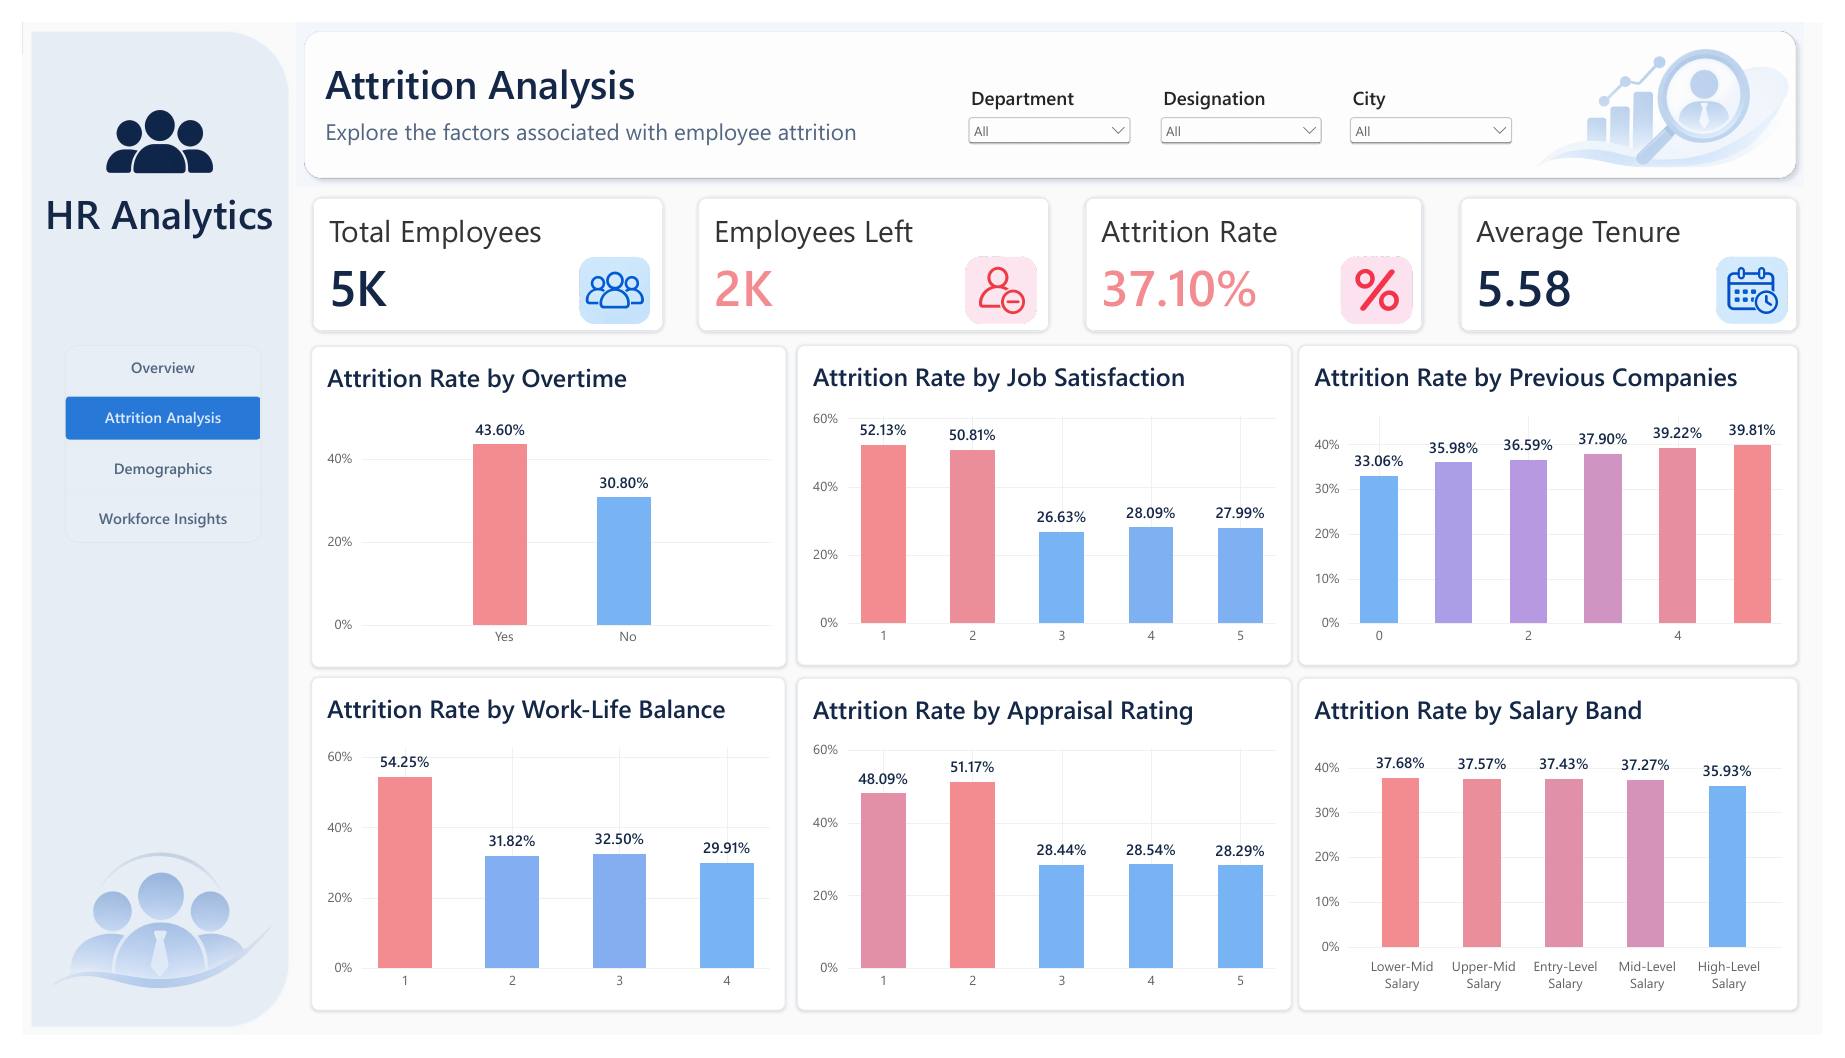

Layout of this report page (visuals, bound fields, positions):
{"tool":"powerbi","page":{"name":"Attrition Analysis","canvas":[1920,1080],"ordinal":1},"visuals":[{"type":"shape","box":[292,0,1608,175],"z":0},{"type":"shape","box":[0,0,292.5,1080],"z":1000},{"type":"cardVisual","title":"Hello","fields":{"Data":["HR_Attrition_Indian_Dataset.Total Employees"]},"box":[308.6,185.7,375.7,144.3],"z":2000},{"type":"cardVisual","fields":{"Data":["HR_Attrition_Indian_Dataset.Employees Left"]},"box":[720,185.7,375.7,144.3],"z":3000},{"type":"cardVisual","fields":{"Data":["HR_Attrition_Indian_Dataset.Attrition Rate"]},"box":[1132.9,185.7,361.4,144.3],"z":4000},{"type":"cardVisual","fields":{"Data":["HR_Attrition_Indian_Dataset.Average Tenure"]},"box":[1532.9,185.7,361.4,144.3],"z":5000},{"type":"textbox","box":[322.5,36.2,628.8,63.8],"z":6000},{"type":"textbox","box":[322.9,100,620,35.7],"z":7000},{"type":"clusteredColumnChart","title":"Attrition Rate by Overtime","fields":{"Category":["HR_Attrition_Indian_Dataset.DoesOvertime"],"Y":["HR_Attrition_Indian_Dataset.Attrition Rate"]},"box":[307.5,345,507.5,342.5],"z":8000},{"type":"clusteredColumnChart","title":"Attrition Rate by Job Satisfaction","fields":{"Category":["HR_Attrition_Indian_Dataset.JobSatisfaction"],"Y":["HR_Attrition_Indian_Dataset.Attrition Rate"]},"box":[825.7,344.3,528.6,341.4],"z":9000},{"type":"clusteredColumnChart","title":"Attrition Rate by Work-Life Balance","fields":{"Category":["HR_Attrition_Indian_Dataset.WorkLifeBalance"],"Y":["HR_Attrition_Indian_Dataset.Attrition Rate"]},"box":[308,698,506,356],"z":10000},{"type":"clusteredColumnChart","title":"Attrition Rate by Appraisal Rating","fields":{"Category":["HR_Attrition_Indian_Dataset.AppraisalRating"],"Y":["HR_Attrition_Indian_Dataset.Attrition Rate"]},"box":[825.7,698.6,528.6,355.7],"z":11000},{"type":"clusteredColumnChart","title":"Attrition Rate by Previous Companies","fields":{"Category":["HR_Attrition_Indian_Dataset.PreviousCompanies"],"Y":["HR_Attrition_Indian_Dataset.Attrition Rate"]},"box":[1361.4,344.3,532.9,341.4],"z":12000},{"type":"clusteredColumnChart","title":"Attrition Rate by Salary Band","fields":{"Category":["HR_Attrition_Indian_Dataset.Salary_Group"],"Y":["HR_Attrition_Indian_Dataset.Attrition Rate"]},"box":[1361.4,698.6,532.9,355.7],"z":13000},{"type":"pageNavigator","box":[45,343.8,210,211.2],"z":14000},{"type":"image","box":[960,245.4,166.9,80],"z":15000},{"type":"image","box":[1360.8,245.4,166.9,80],"z":16000},{"type":"image","box":[1782.3,245.4,124.6,80],"z":17000},{"type":"image","box":[546.4,245.5,172,80],"z":18000},{"type":"textbox","box":[25,175,245,225],"z":19000},{"type":"image","box":[0,825,300,255],"z":20000},{"type":"slicer","fields":{"Values":["HR_Attrition_Indian_Dataset.Department"]},"box":[1004.3,67.1,182.9,90],"z":21000},{"type":"slicer","fields":{"Values":["HR_Attrition_Indian_Dataset.Designation"]},"box":[1208.6,67.1,182.9,90],"z":22000},{"type":"slicer","fields":{"Values":["HR_Attrition_Indian_Dataset.City"]},"box":[1411.4,67.1,182.9,90],"z":23000},{"type":"image","box":[1595,0,300,175],"z":24000},{"type":"image","box":[55,40,181.7,156.7],"z":25000}]}

Visuals, with their boxes in screenshot pixels (x1, y1, x2, y2), scaled from the page's 1920x1080 canvas onto the 1845x1058 screenshot:
shape: 281, 0, 1826, 171
shape: 0, 0, 281, 1057
"Hello" cardVisual: 297, 182, 658, 323
cardVisual - HR_Attrition_Indian_Dataset.Employees Left: 692, 182, 1053, 323
cardVisual - HR_Attrition_Indian_Dataset.Attrition Rate: 1089, 182, 1436, 323
cardVisual - HR_Attrition_Indian_Dataset.Average Tenure: 1473, 182, 1820, 323
textbox: 310, 35, 914, 98
textbox: 310, 98, 906, 133
"Attrition Rate by Overtime" clusteredColumnChart: 295, 338, 783, 673
"Attrition Rate by Job Satisfaction" clusteredColumnChart: 793, 337, 1301, 672
"Attrition Rate by Work-Life Balance" clusteredColumnChart: 296, 684, 782, 1033
"Attrition Rate by Appraisal Rating" clusteredColumnChart: 793, 684, 1301, 1033
"Attrition Rate by Previous Companies" clusteredColumnChart: 1308, 337, 1820, 672
"Attrition Rate by Salary Band" clusteredColumnChart: 1308, 684, 1820, 1033
pageNavigator: 43, 337, 245, 544
image: 922, 240, 1083, 319
image: 1308, 240, 1468, 319
image: 1713, 240, 1832, 319
image: 525, 240, 690, 319
textbox: 24, 171, 259, 392
image: 0, 808, 288, 1057
slicer - HR_Attrition_Indian_Dataset.Department: 965, 66, 1141, 154
slicer - HR_Attrition_Indian_Dataset.Designation: 1161, 66, 1337, 154
slicer - HR_Attrition_Indian_Dataset.City: 1356, 66, 1532, 154
image: 1533, 0, 1821, 171
image: 53, 39, 227, 193
